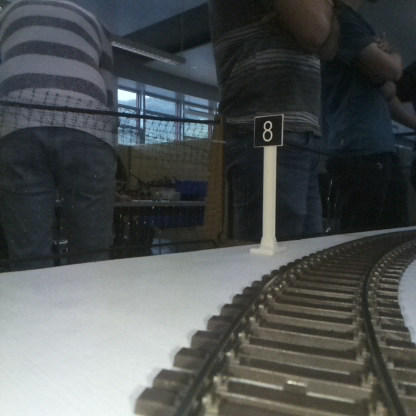black-info-8: (254, 114, 282, 250)
